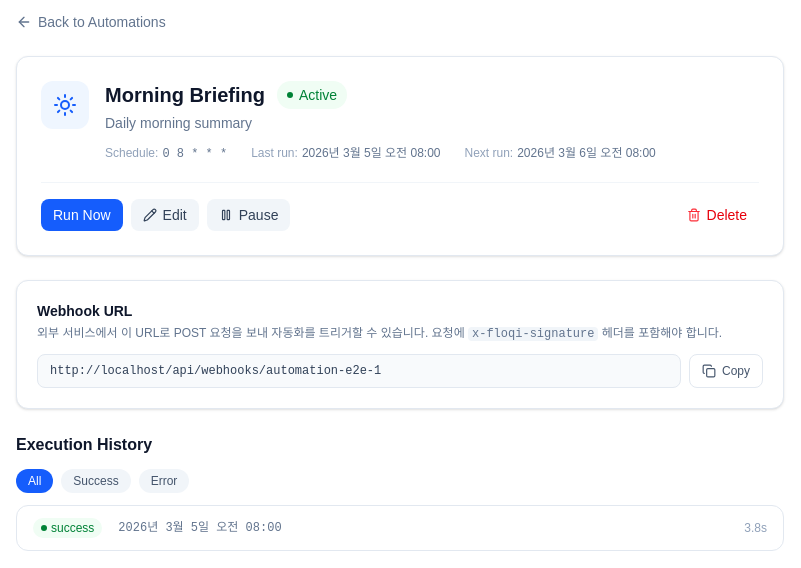
it: TC-3020: Manual Run Now execution › Run Now button is disabled while execution is in progress — RED
Expected: the heading "Morning Briefing" is shown, [105,81,265,109]
Click the button "Run Now" at (82, 215), box [41,199,123,231]
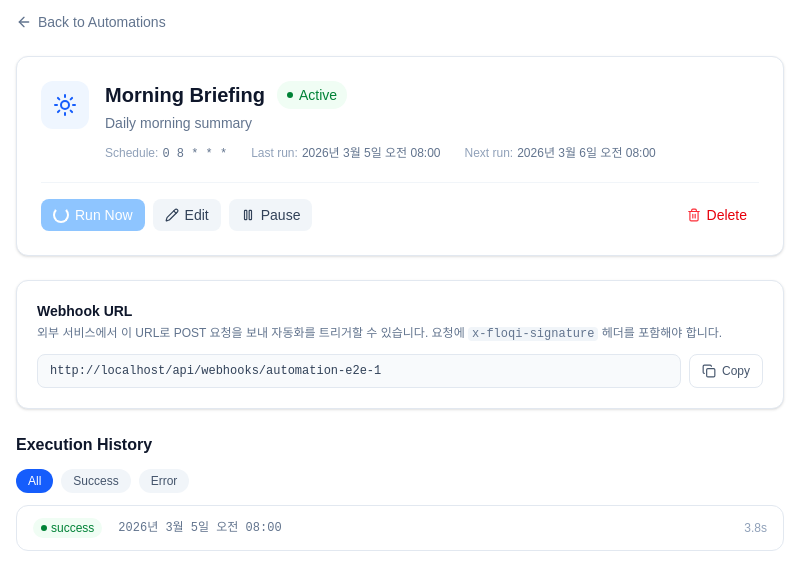
Result: the button "Run Now" is disabled at [41,199,145,231]
